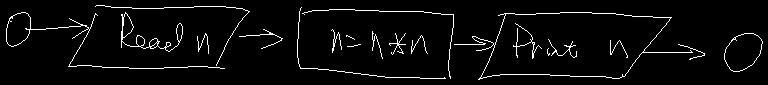arrow: (25, 18, 88, 38), (642, 44, 704, 59), (239, 29, 282, 48), (454, 36, 493, 50)
connection: (724, 33, 762, 71), (6, 12, 30, 46)
data: (478, 12, 671, 79), (68, 5, 249, 68)
process: (297, 7, 453, 78)
text: (513, 23, 627, 58), (121, 12, 208, 53), (331, 29, 427, 58)
